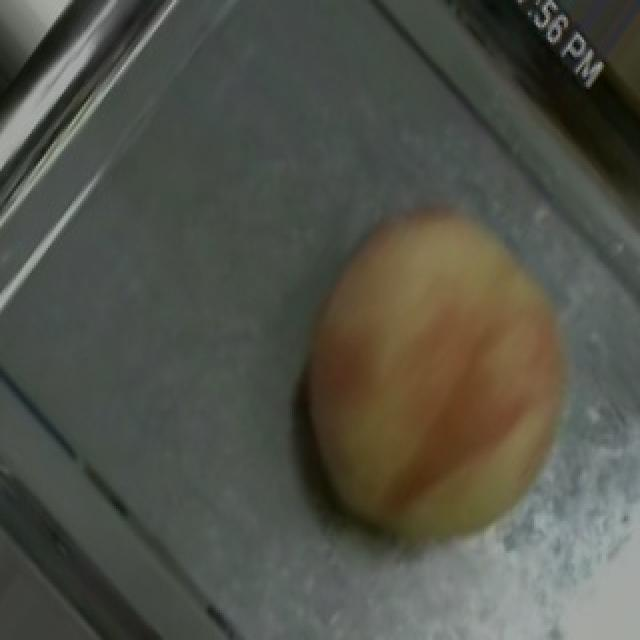Fruit: (264, 164, 612, 531)
